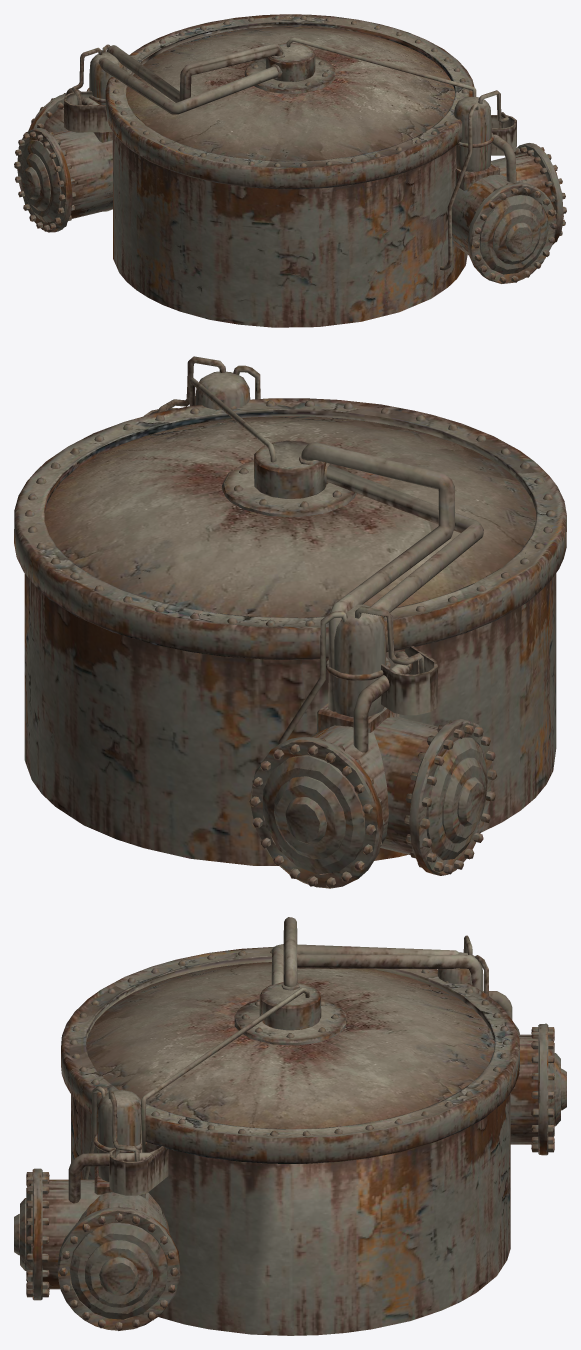
File: storage-tank.glb
3 renders of one model, top to bottom at view 1: azimuth 30°, elevation 25°; view 2: azimuth 150°, elevation 25°; view 3: azimuth 270°, elevation 25°, orthographic. The views are drawn at different scales.
Visible parts, largest first — view 1: body; view 2: body; view 3: body.
Part boxes in pixels (x1,y1,x2,y2): body: (14, 14, 566, 327); body: (14, 356, 566, 888); body: (14, 917, 566, 1335).
Bounding box in the file's own units: 3.13 × 1.65 × 3.13.
Materials: 1 (1 with a texture image).
